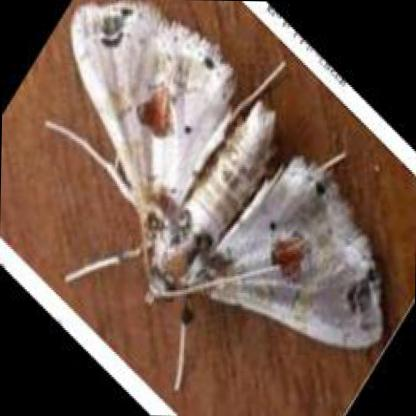leucinodes: (71, 3, 380, 353)
